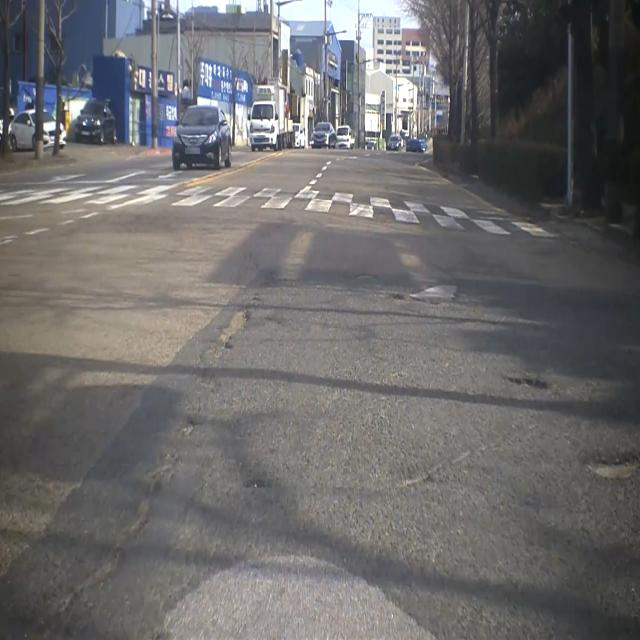Pothole: (37, 411, 196, 623), (580, 442, 640, 492), (402, 270, 465, 314), (210, 298, 253, 353), (504, 364, 558, 404)
